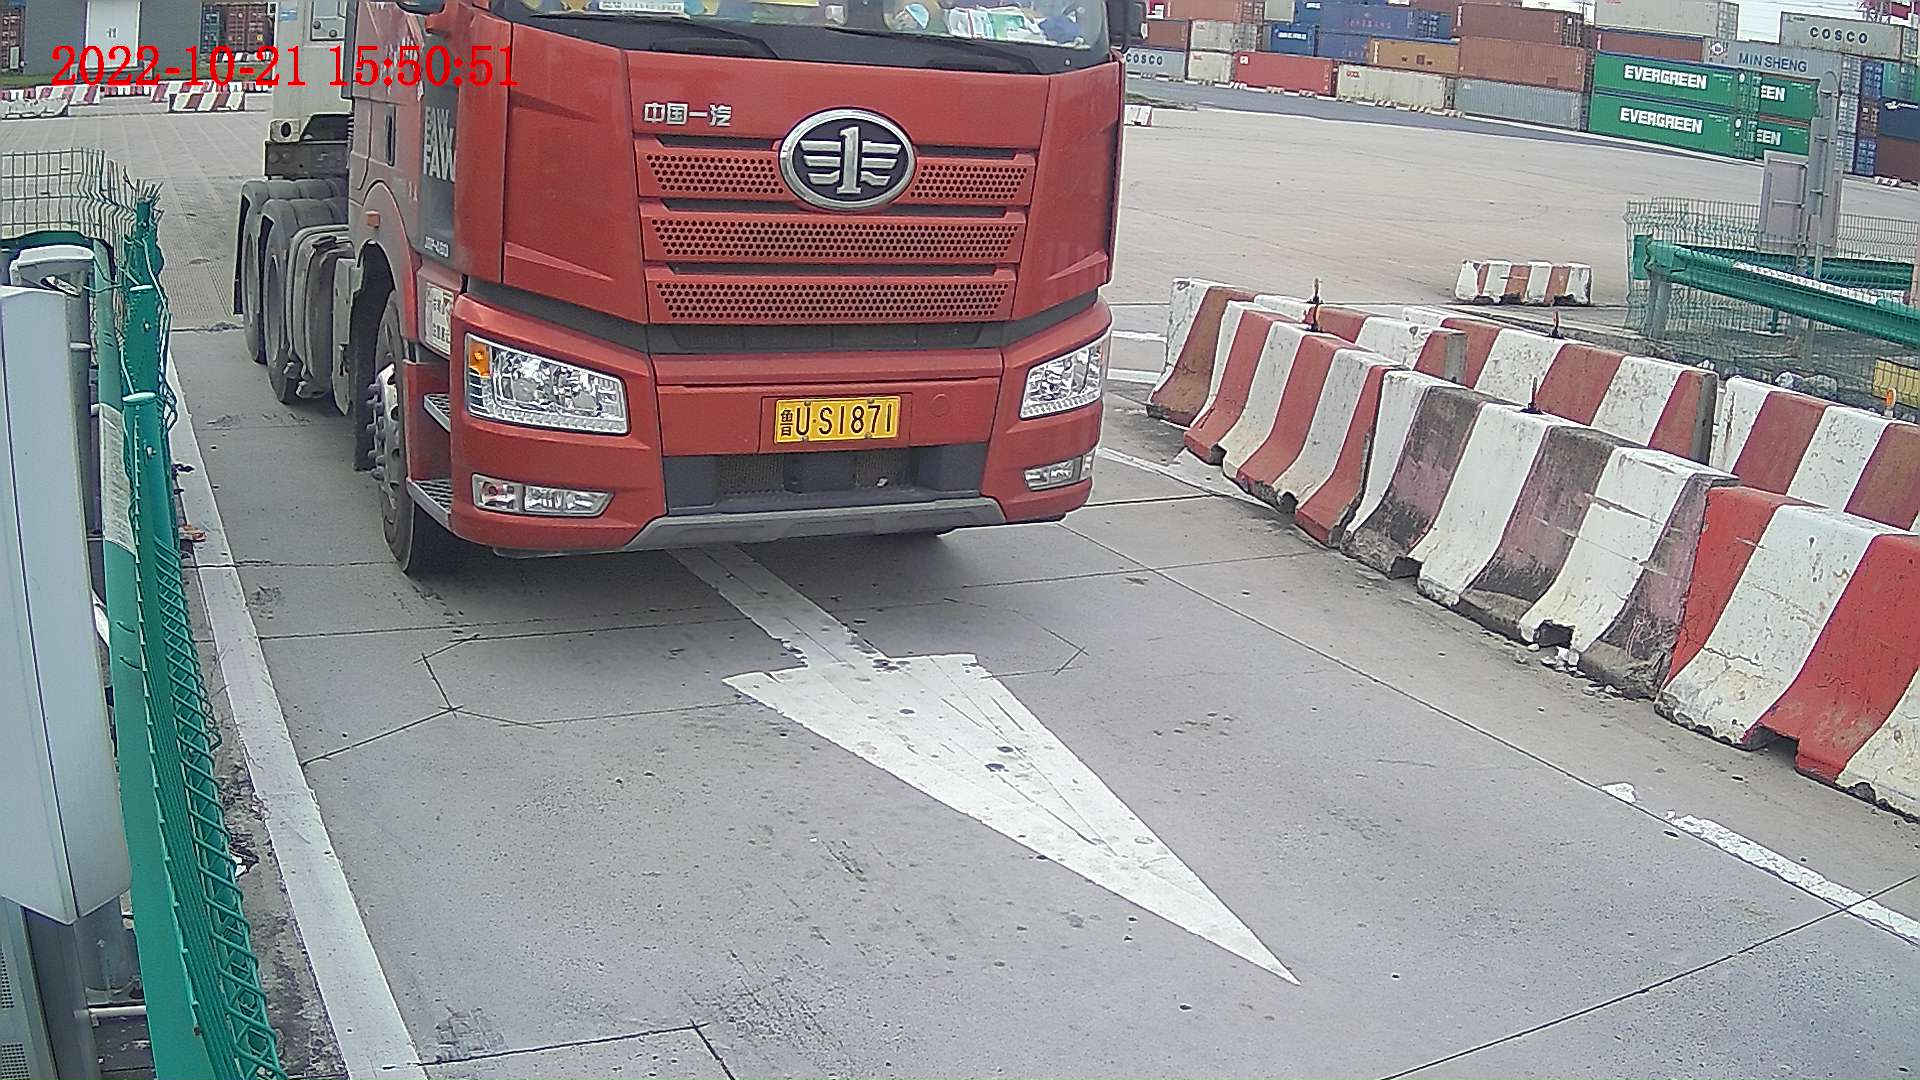head: (361, 1, 1124, 573)
plate: (775, 399, 900, 439)
